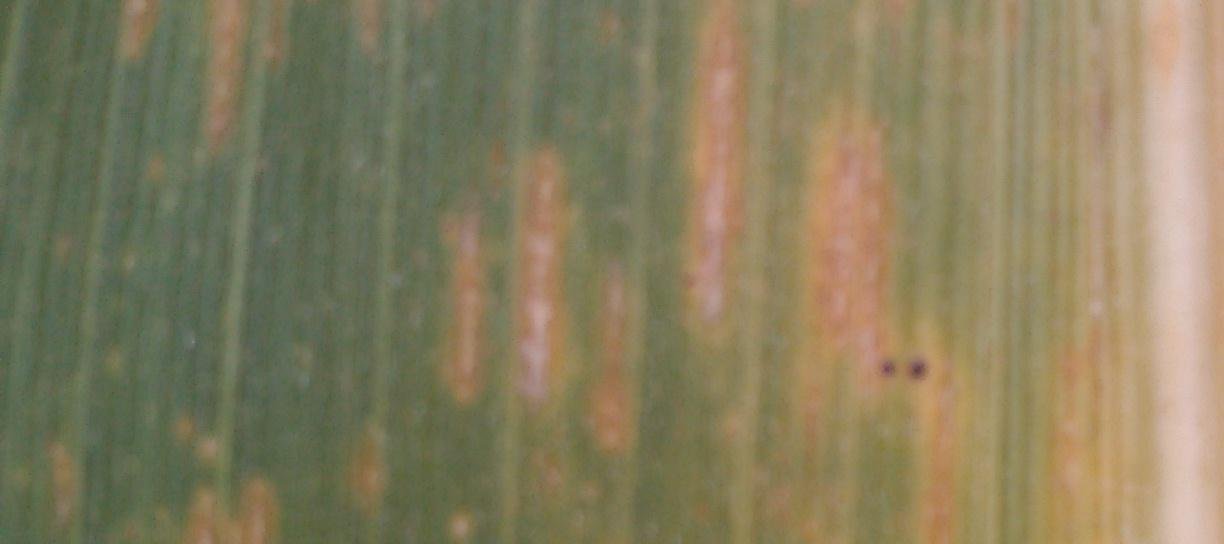tarspot: (903, 350, 937, 390), (872, 350, 905, 386)
